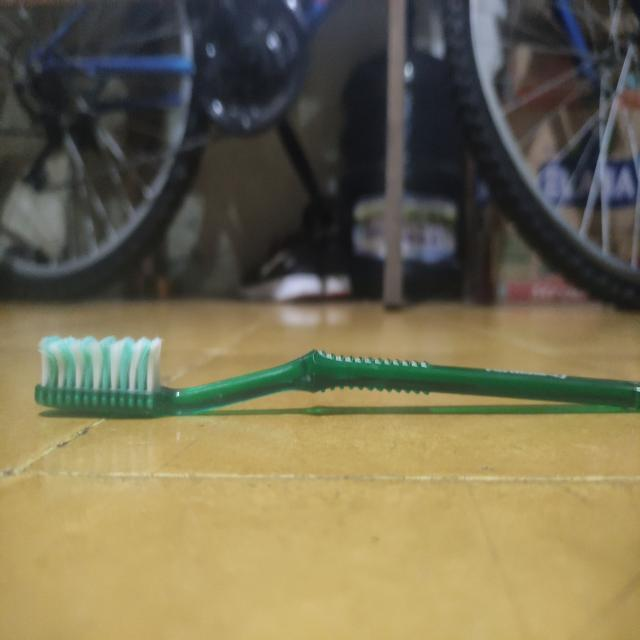toothbrush: (32, 309, 640, 435)
